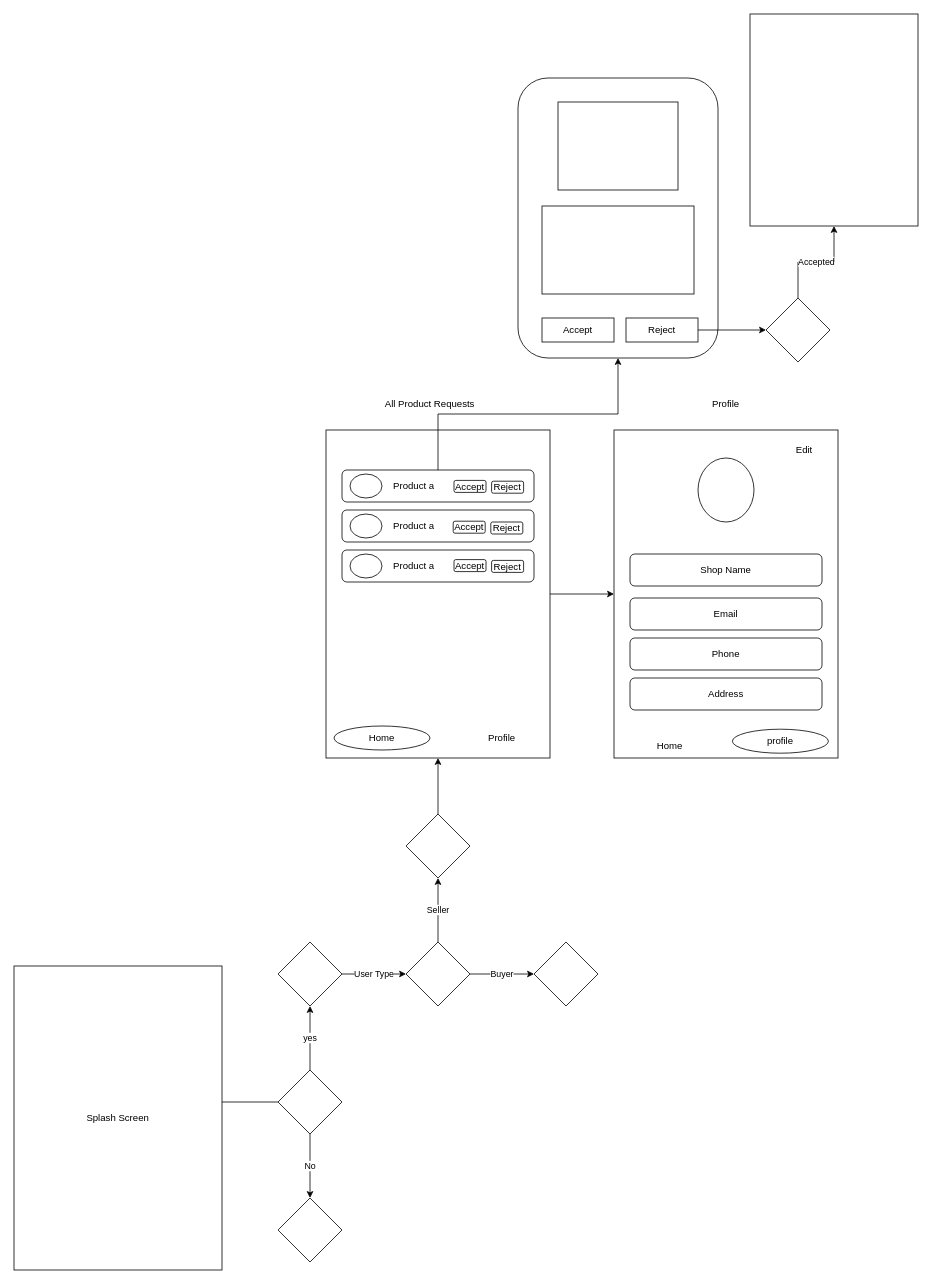
Some shapes in this 932 by 1284 pixel diagram are drawn without their labels. Here are the shapes that lost their labels. From the top down, the centre of each, then its label:
At (833,119): "adds".
At (617,145): "Product Image(Can be multiple)".
At (617,249): "Product Description".
At (309,1101): "logged in".
